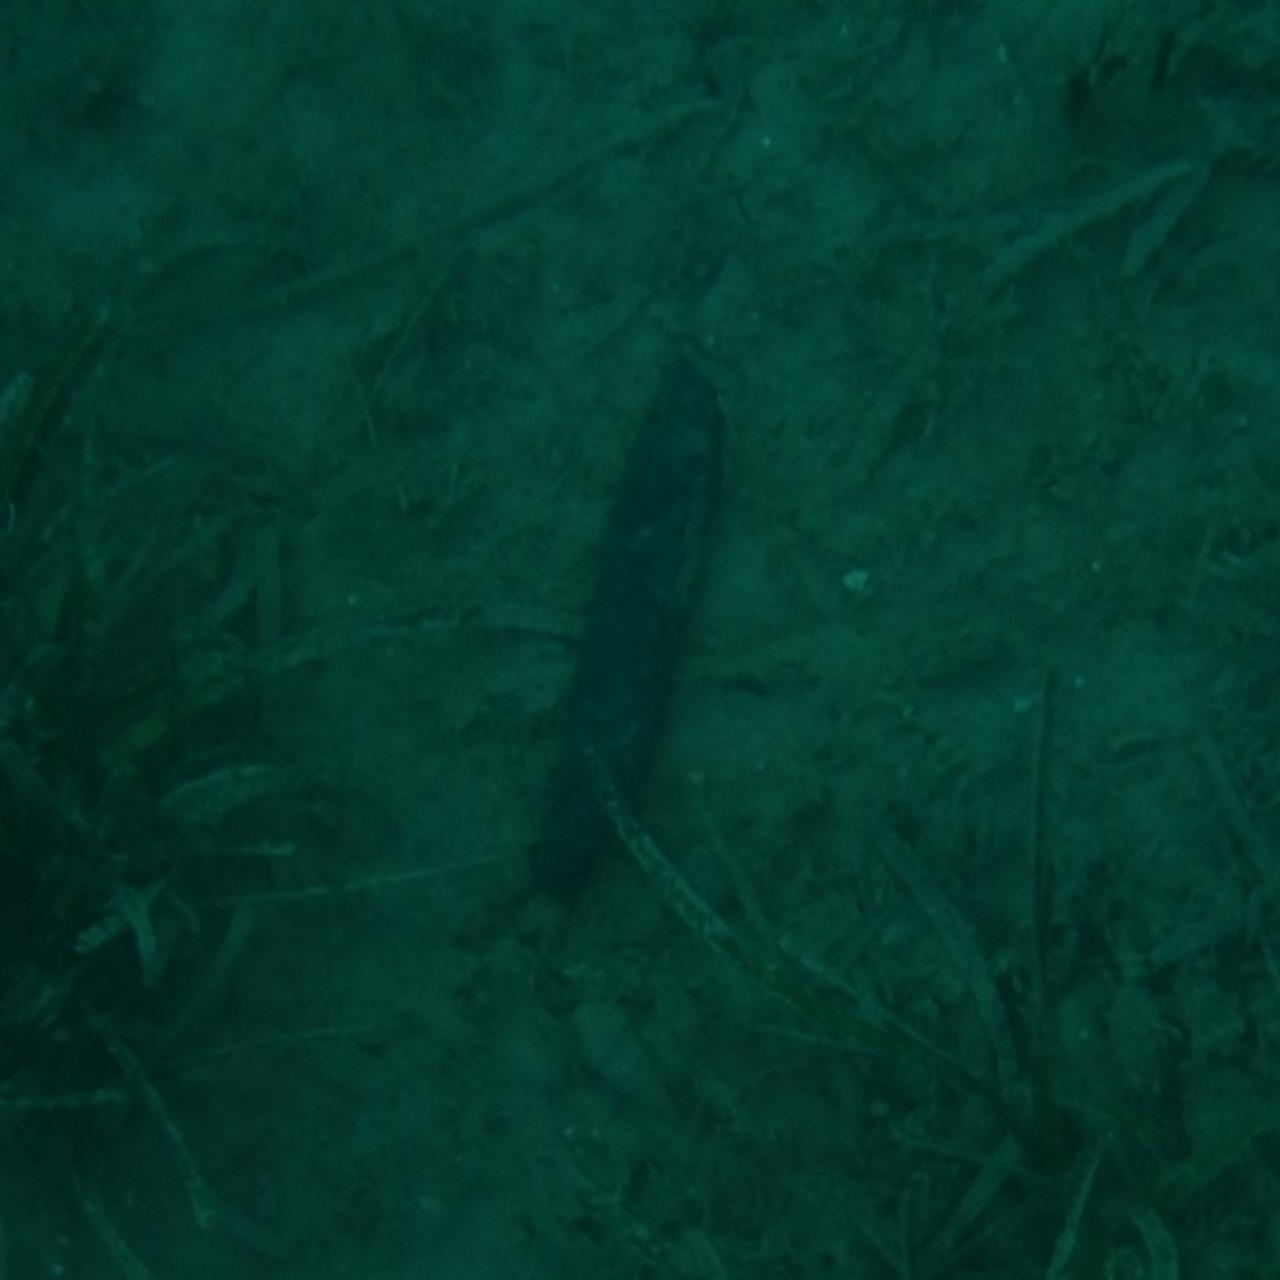Holothuria tubulosa: (527, 358, 753, 922)
